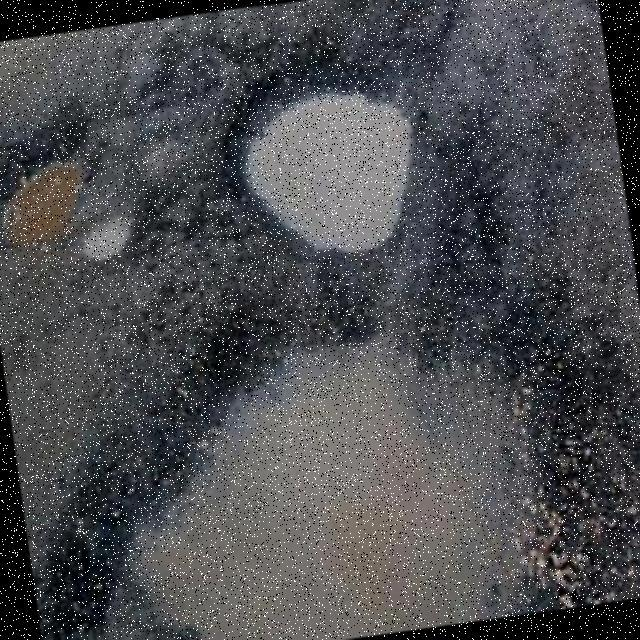Pothole: (34, 328, 542, 640), (224, 70, 413, 255), (0, 93, 87, 255), (70, 212, 135, 267)
